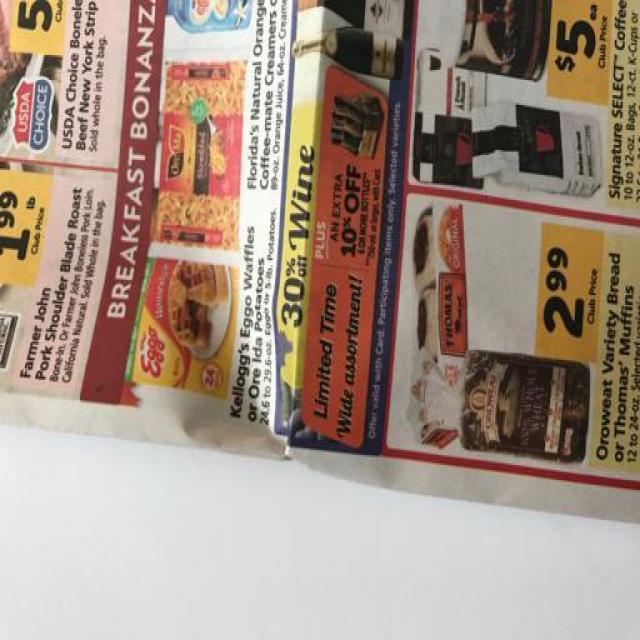paper: (1, 1, 640, 516)
